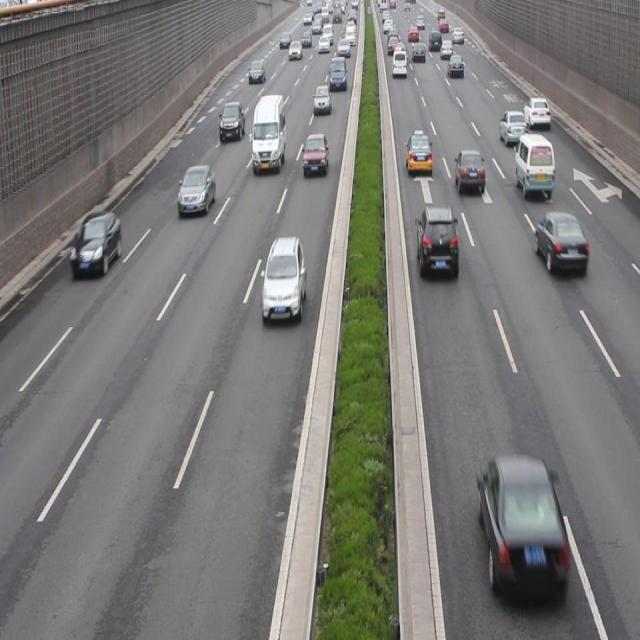car: (475, 456, 568, 590), (260, 237, 306, 324), (532, 212, 587, 279), (70, 214, 121, 277), (416, 206, 458, 278), (176, 165, 216, 218), (453, 148, 485, 196), (405, 131, 430, 175), (497, 110, 526, 146), (303, 135, 327, 177), (218, 102, 244, 140), (522, 98, 550, 130)
truck: (252, 94, 285, 174), (515, 136, 552, 198)
